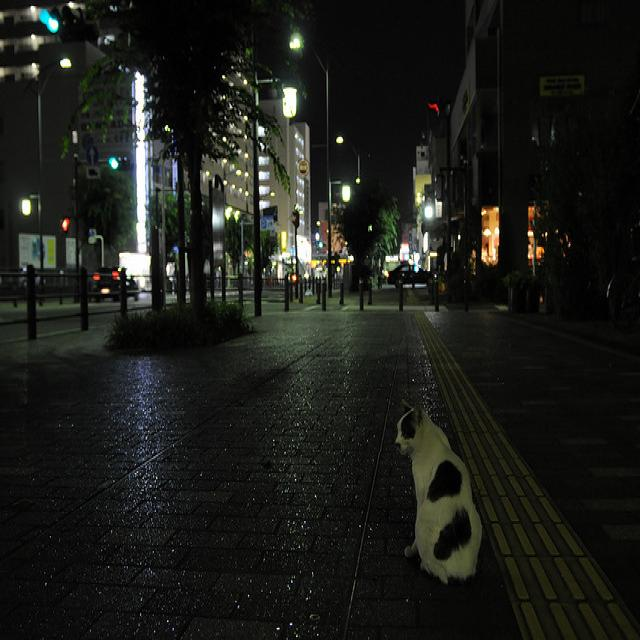Cat: (378, 392, 484, 640)
